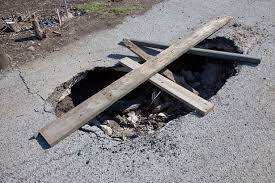pothole: (58, 29, 244, 150)
